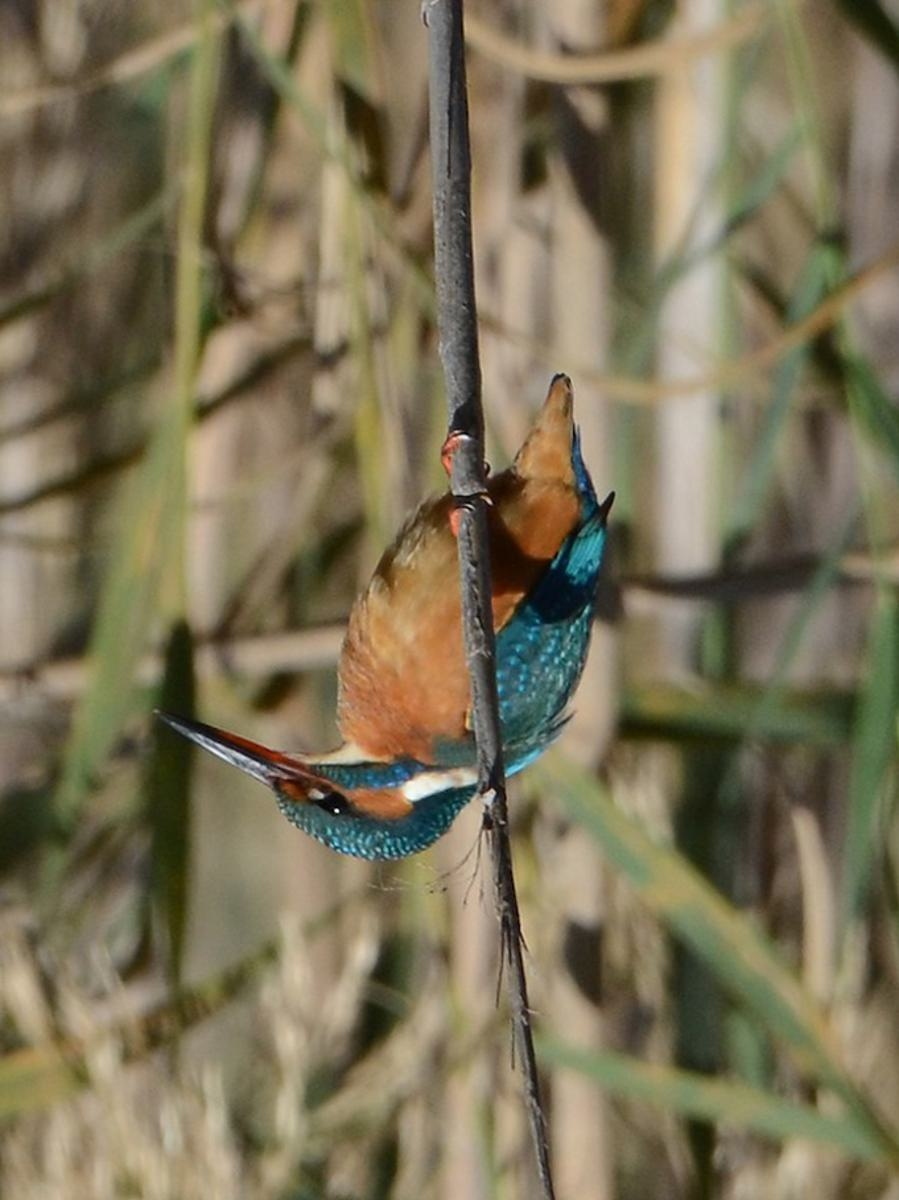kingfisher: (148, 385, 613, 880)
